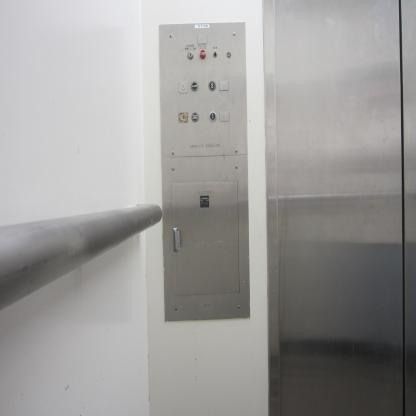1: (209, 111, 216, 121)
2: (208, 80, 216, 90)
alarm: (178, 80, 188, 93)
keyhole: (186, 50, 194, 60)
switch: (213, 50, 217, 58)
text: (190, 81, 198, 91), (191, 112, 199, 122)
text_stop: (199, 50, 206, 58)
